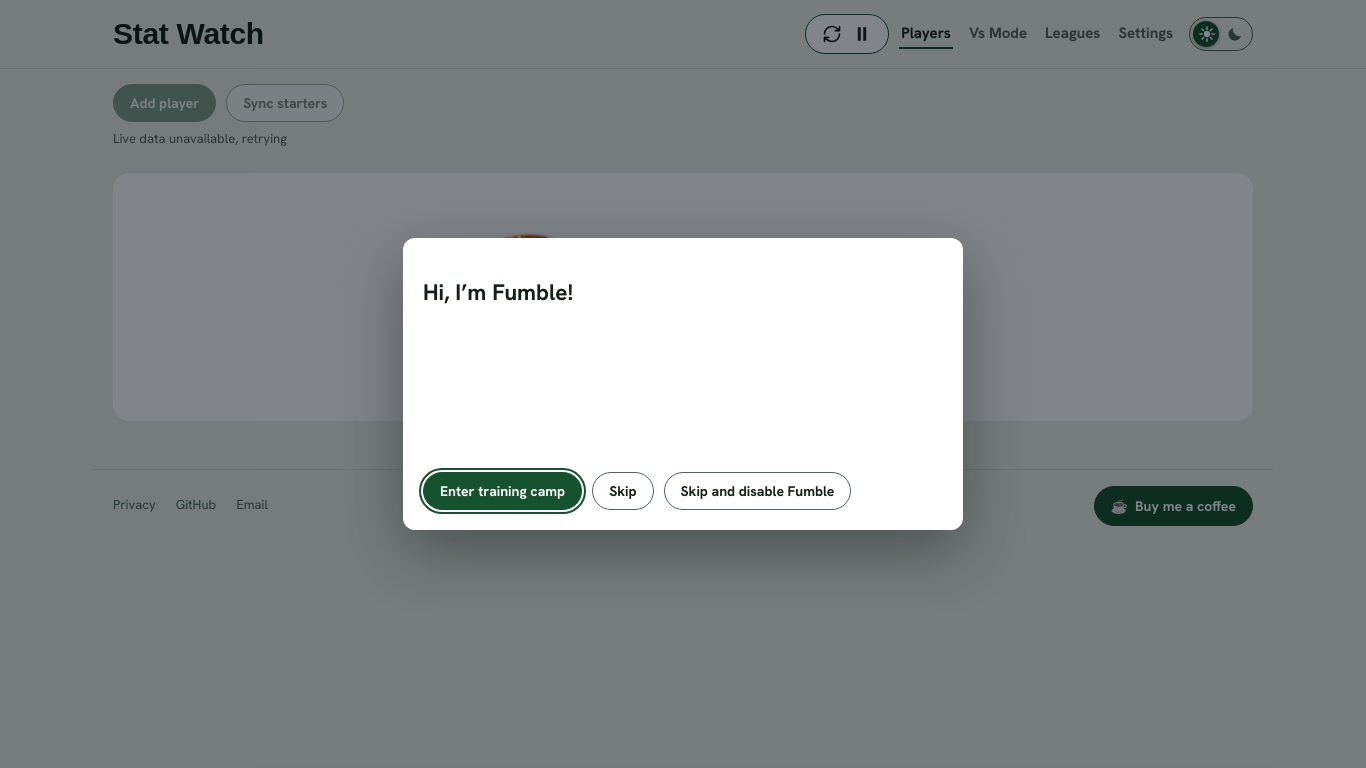
Test case: rookie camp › the welcome › turns the mascot off for good with Skip and disable, and the answer is remembered
Click the button "Skip and disable Fumble". click: (757, 492)
box: [664,472,851,510]
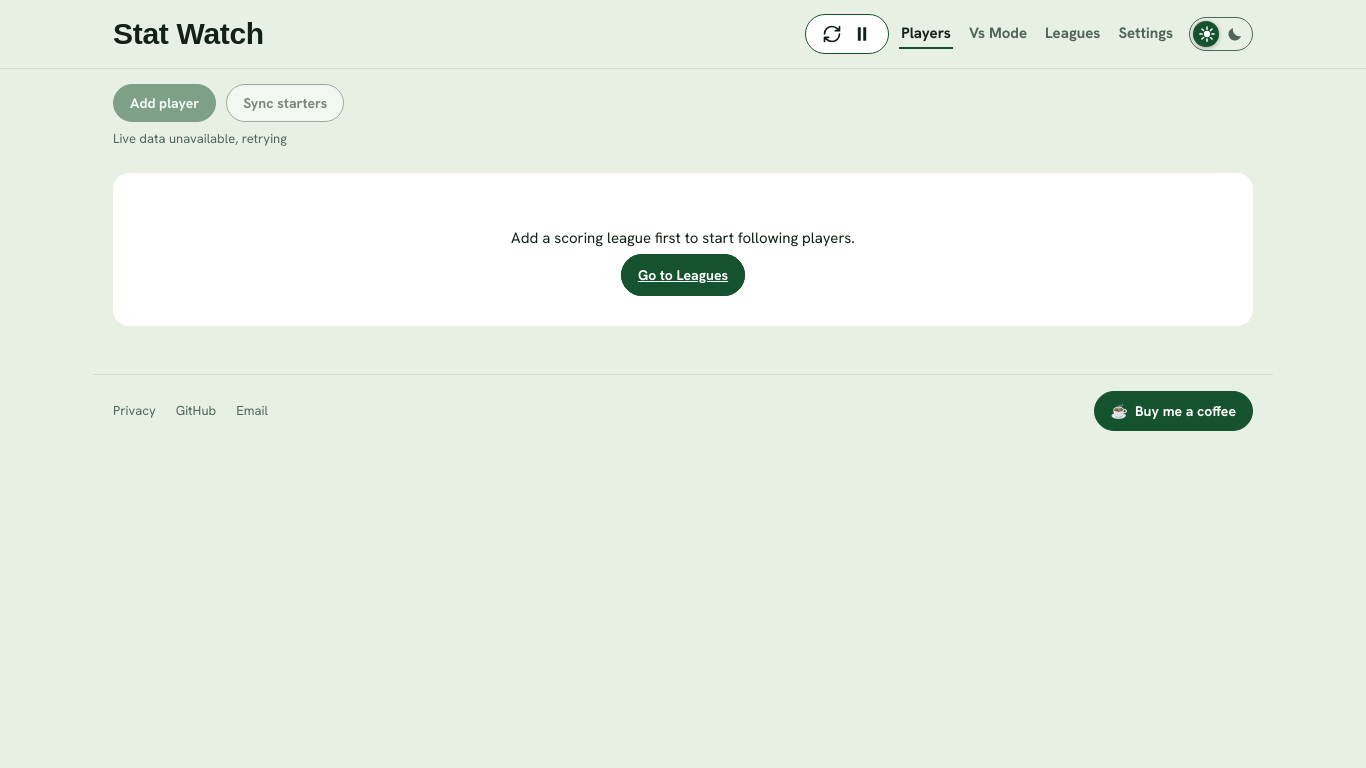
Check: the icon with class "mascot" is gone
